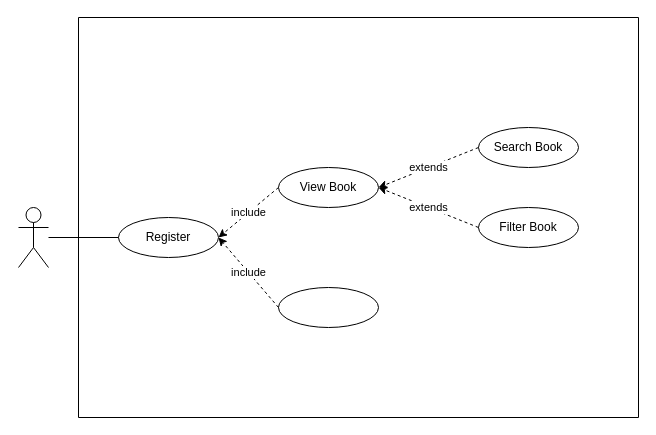
Image size: 656x435. Some labels were removed from this diagram. The shapes that lost their labels are listed below. From the top down, each one's centre as x and y in pixels, then its label:
At pixel 33 237: "Guest".
At pixel 328 307: "View Feedback".
